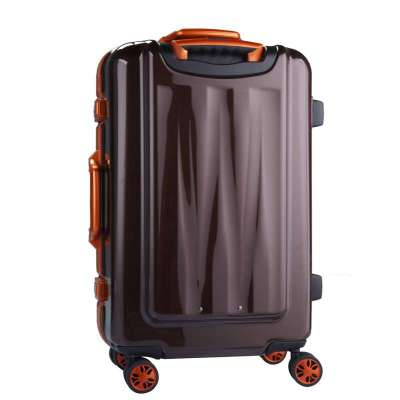suitcase: (87, 28, 326, 395)
